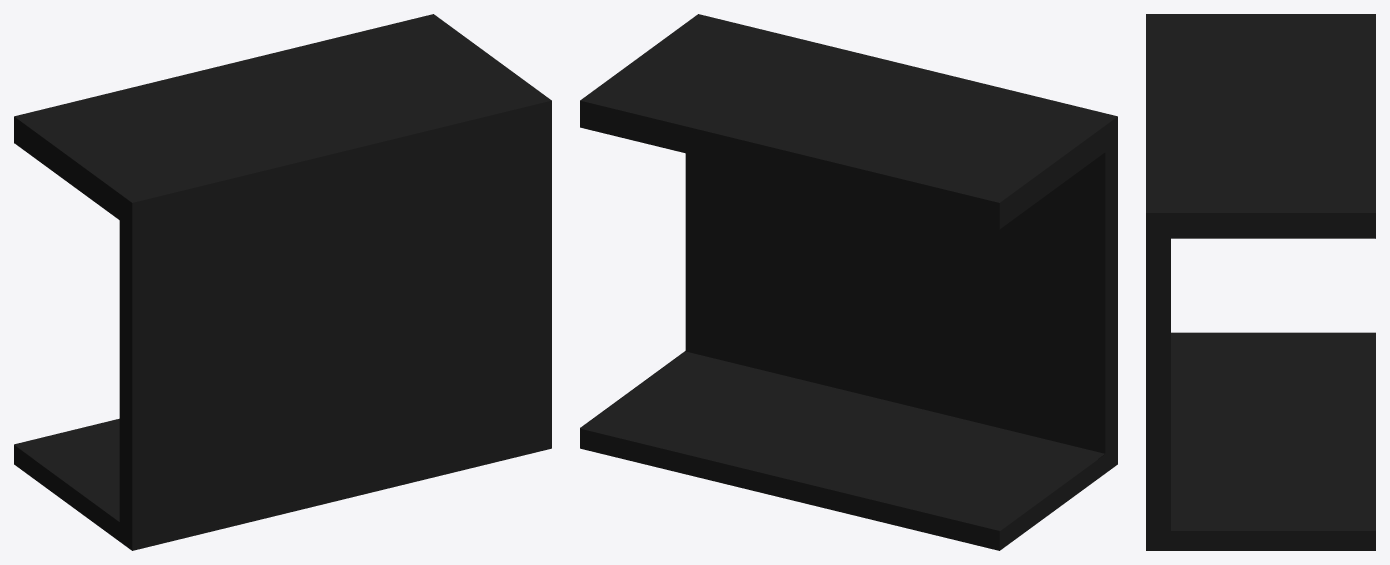
The model's file is DeskLv2.glb.
3 renders of one model, left to right at view 1: azimuth 30°, elevation 25°; view 2: azimuth 150°, elevation 25°; view 3: azimuth 270°, elevation 25°, orthographic. The views are drawn at different scales.
Parts seen in each view (by area): view 1: Desk; view 2: Desk; view 3: Desk.
Boxes of the visible parts, x1,y1,x2,y2 form: Desk: [14, 14, 551, 550]; Desk: [580, 14, 1117, 550]; Desk: [1146, 14, 1375, 550].
Bounding box in the file's own units: 4.1 × 3.25 × 2.
Materials: 1 (1 with a texture image).
